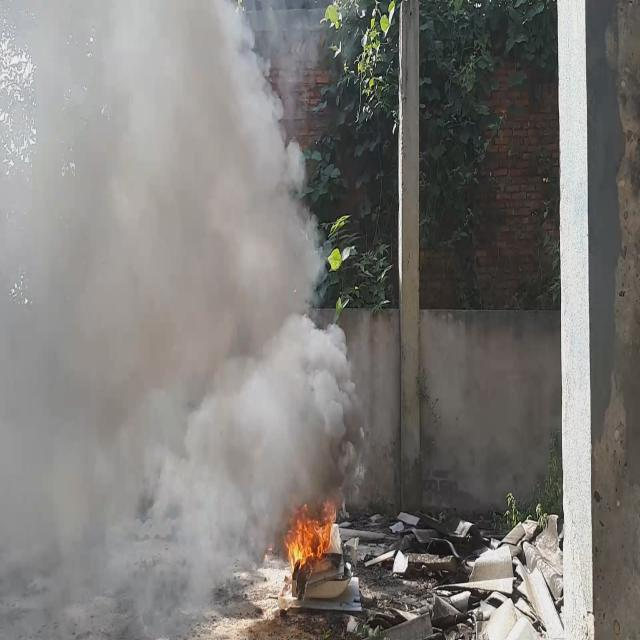Fire: (288, 488, 338, 576)
Smoke: (0, 0, 368, 640)
